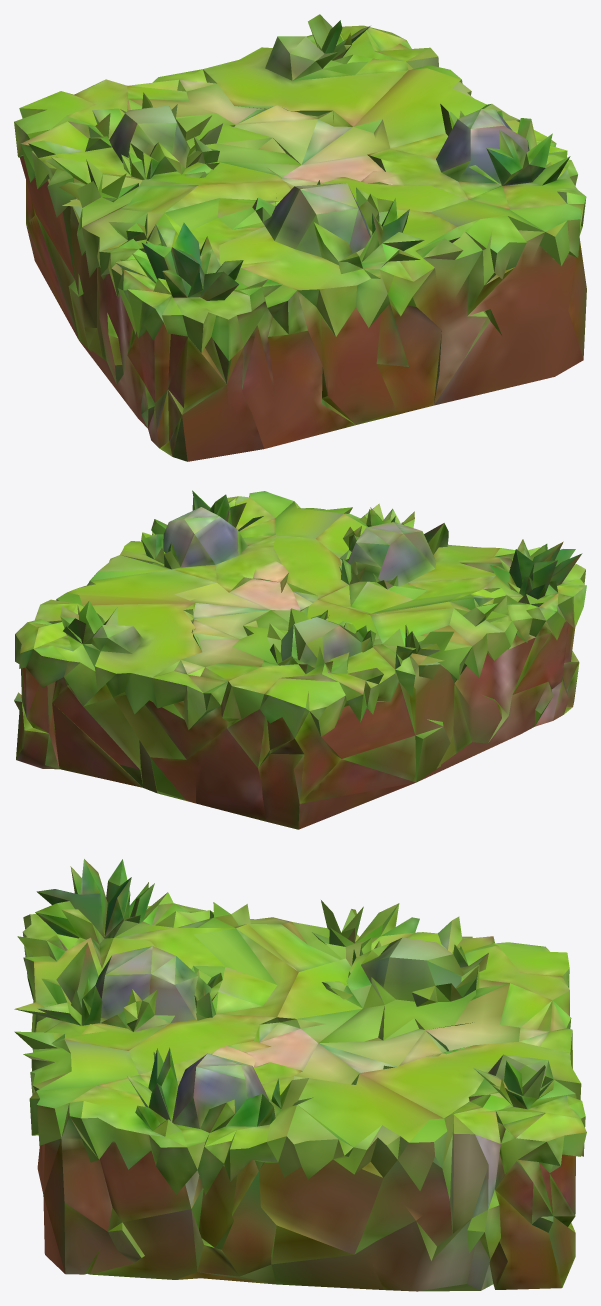
The model's file is grass-tile.glb.
The picture shows the model from 3 angles, top to bottom: view 1: azimuth 30°, elevation 25°; view 2: azimuth 150°, elevation 25°; view 3: azimuth 270°, elevation 25°; orthographic projection. The views are drawn at different scales.
Visible parts, largest first — view 1: output_unwrapped; view 2: output_unwrapped; view 3: output_unwrapped.
Boxes of the visible parts, x1=… form: output_unwrapped: x1=14, y1=14, x2=586, y2=461; output_unwrapped: x1=14, y1=490, x2=586, y2=829; output_unwrapped: x1=14, y1=859, x2=586, y2=1291.
Size of the model in its own units: 1.9 by 0.7688 by 1.88.
Materials: 1 (1 with a texture image).
